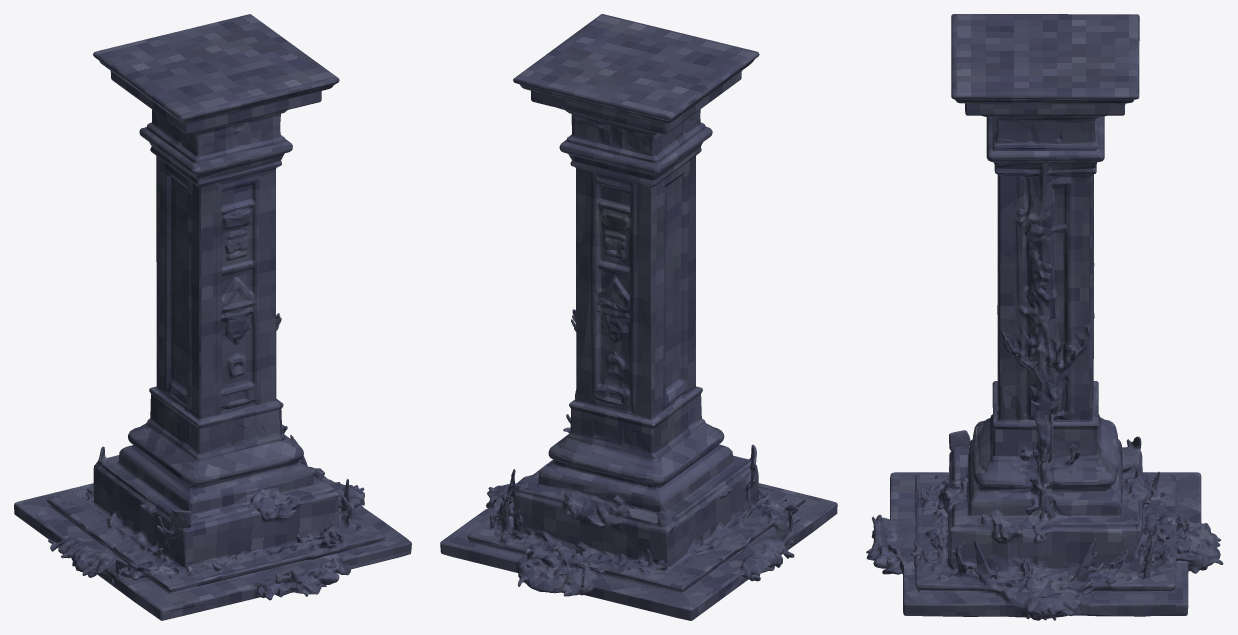
Rendered from weathered-monolith-pillar-generated-2026-04-19T23-42-40-008Z.medium.glb.
3 renders of one model, left to right at view 1: azimuth 30°, elevation 25°; view 2: azimuth 150°, elevation 25°; view 3: azimuth 270°, elevation 25°, orthographic. The views are drawn at different scales.
Parts seen in each view (by area): view 1: temp_mesh.ply; view 2: temp_mesh.ply; view 3: temp_mesh.ply.
Part boxes in pixels (bbox=[...]): temp_mesh.ply: bbox=[14, 14, 411, 620]; temp_mesh.ply: bbox=[440, 14, 837, 620]; temp_mesh.ply: bbox=[866, 14, 1223, 620].
Size of the model in its own units: 1.28 by 1.97 by 1.28.
1 material, 1 textured.
